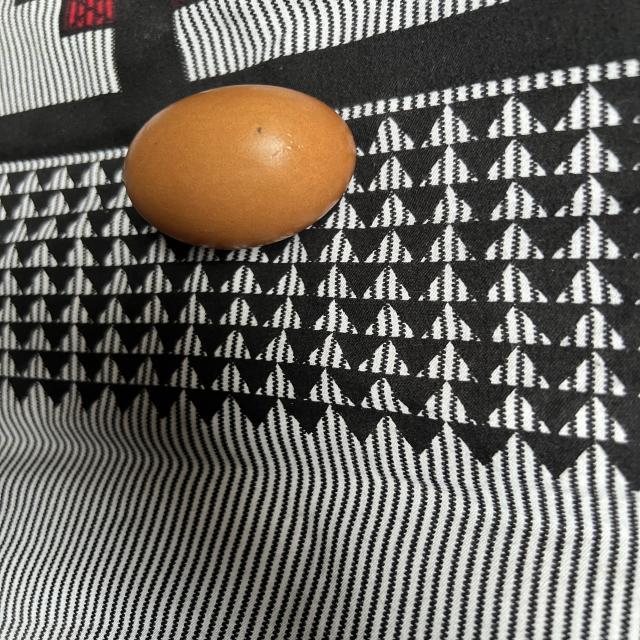egg: (119, 81, 363, 251)
